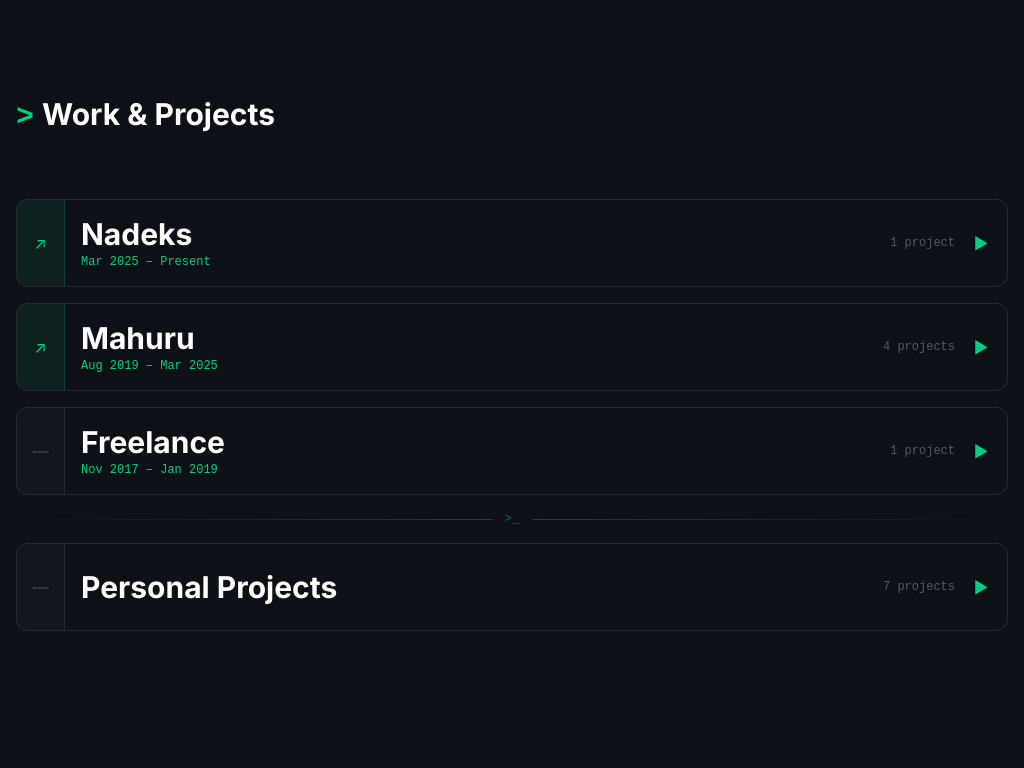
Test: WorkAndProjects › повторный клик сворачивает блок
Click the text "Mar 2025 – Present" at (146, 262), box [81,255,211,269]
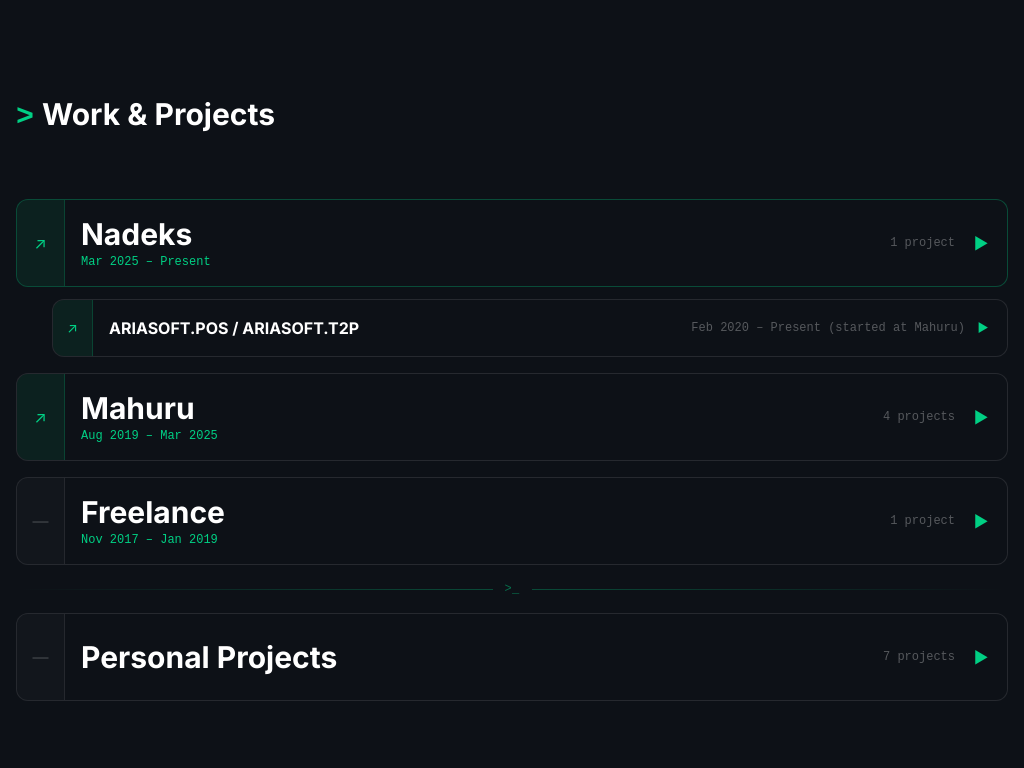
Expected: the heading "ARIASOFT.POS / ARIASOFT.T2P" is shown, [109,316,359,340]
Click the text "Mar 2025 – Present" at (146, 262), box [81,255,211,269]
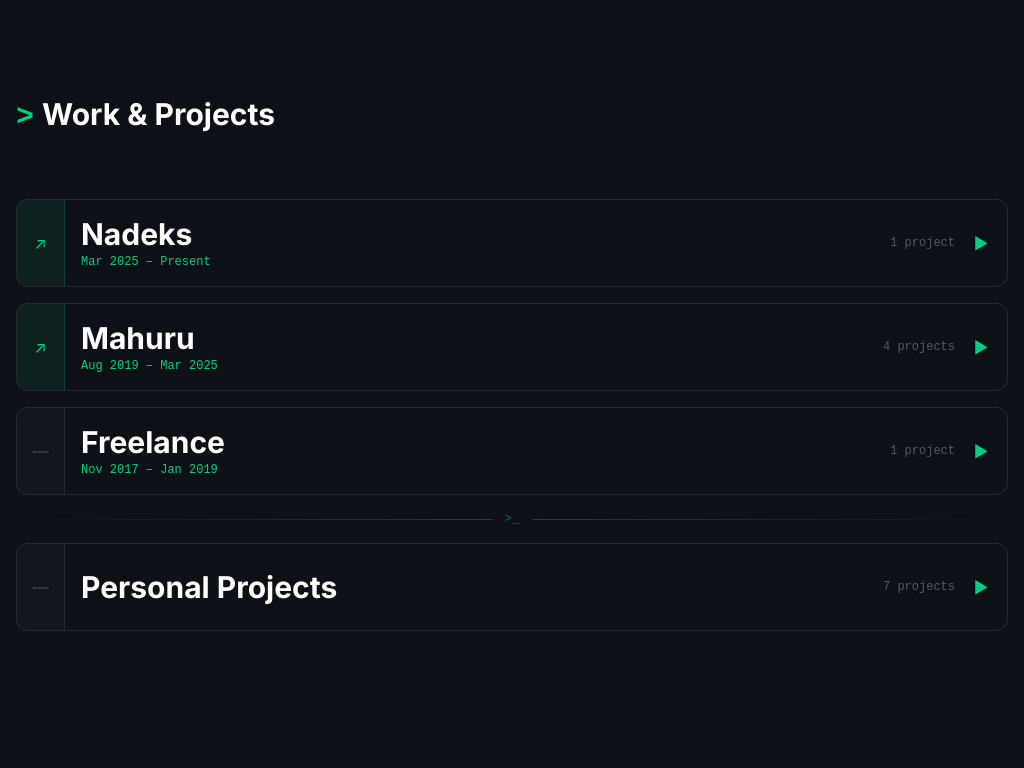
Expected: the heading "ARIASOFT.POS / ARIASOFT.T2P" is gone
